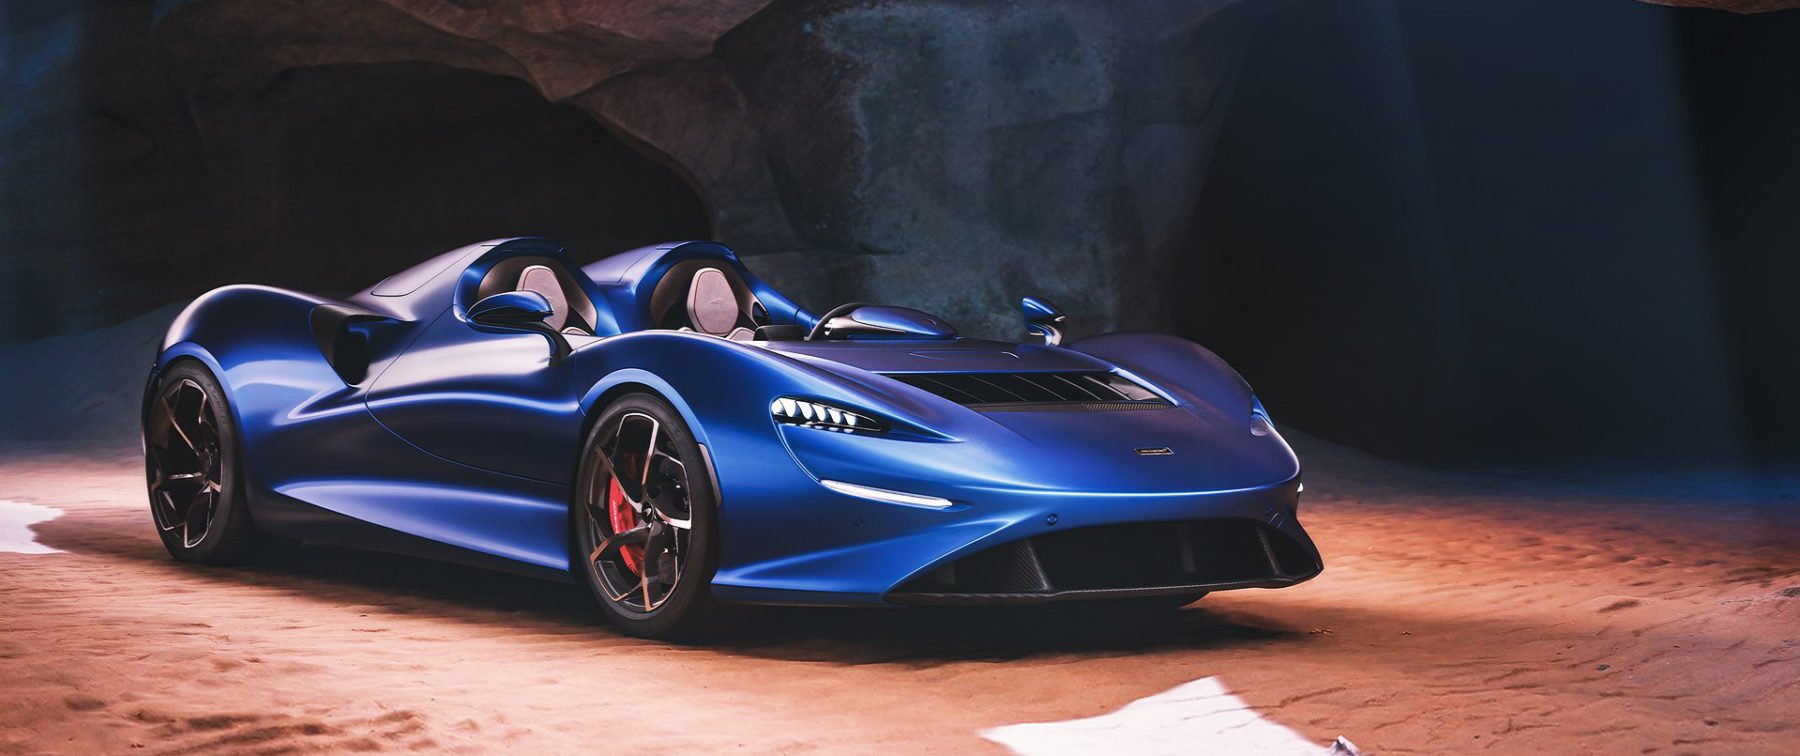car: (141, 233, 1345, 608)
